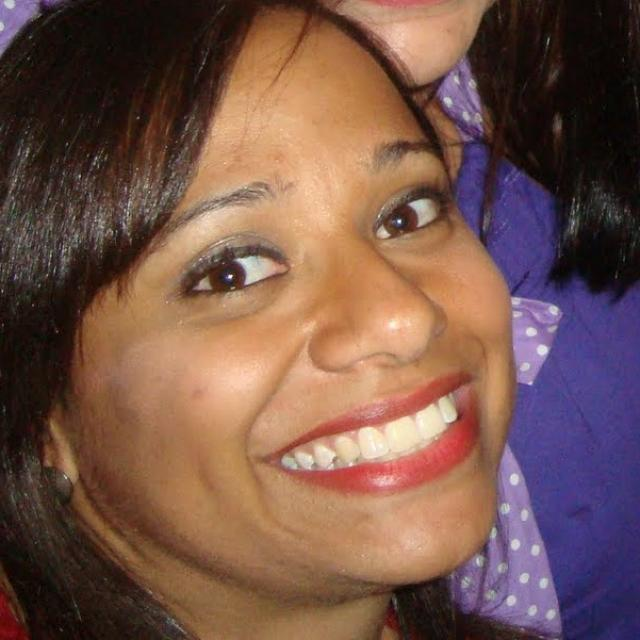Normal: (66, 11, 515, 603)
